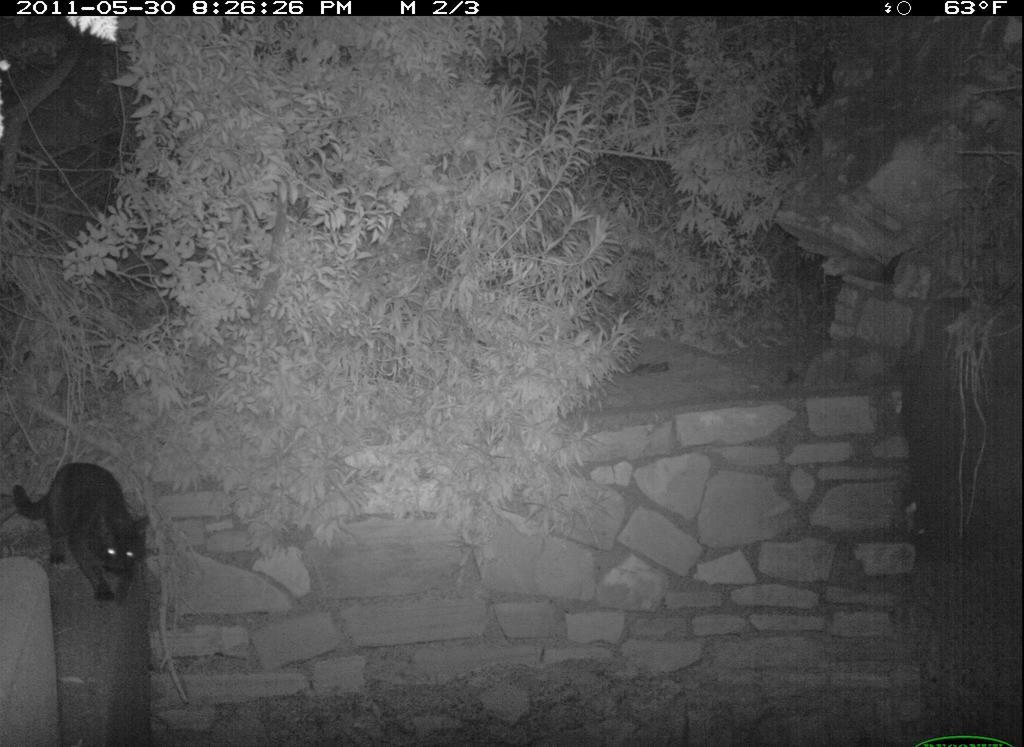cat: (6, 454, 167, 611)
